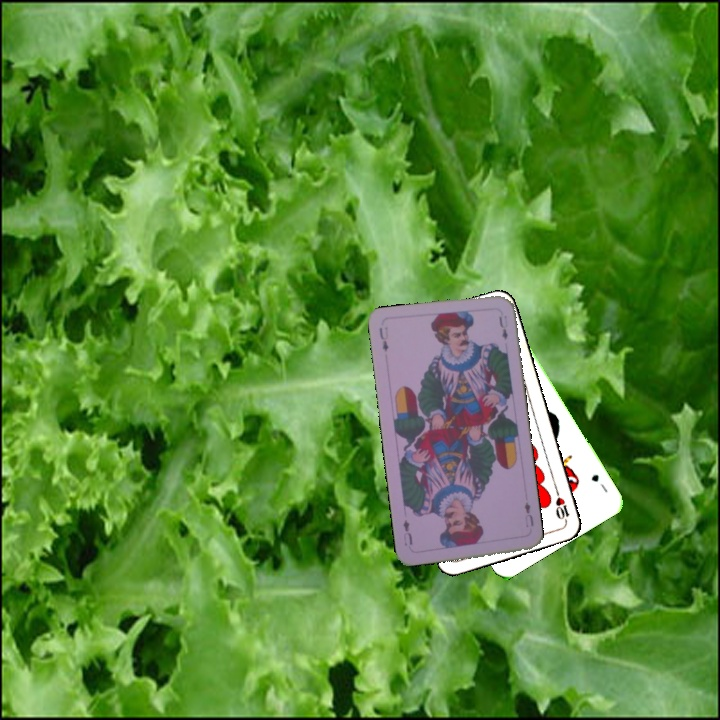EU: (520, 498, 536, 529), (375, 323, 391, 354)
GU: (587, 470, 610, 495)
H10: (551, 485, 572, 525)
